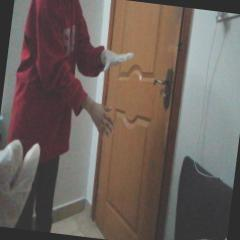gloved: (0, 138, 41, 230), (100, 49, 134, 75)
not-gloved: (86, 100, 117, 140)
